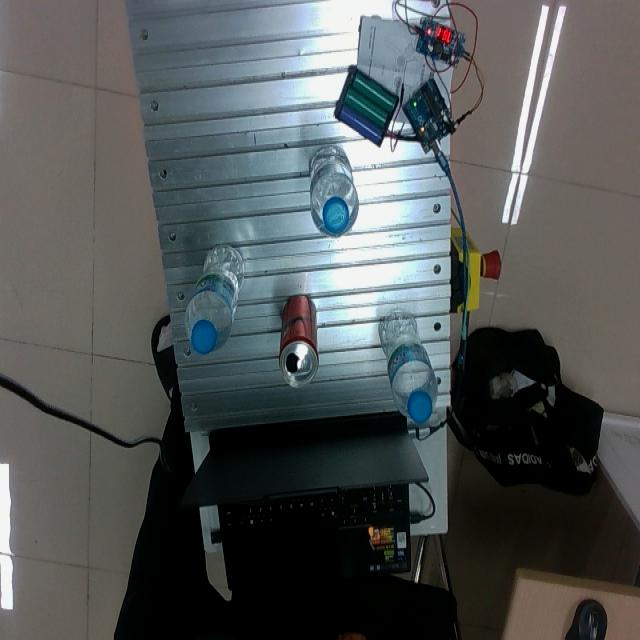coca: (279, 295, 320, 388)
lavie: (185, 245, 247, 354), (379, 311, 438, 425), (309, 148, 359, 239)
